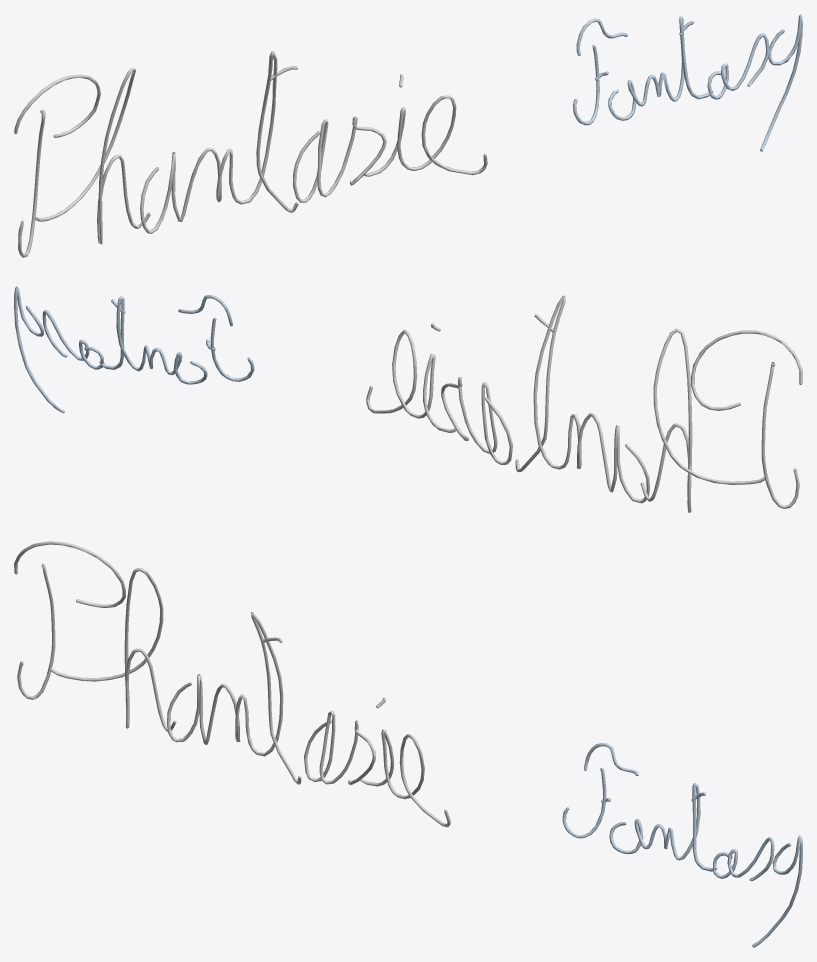
File: phantasie.glb
3 renders of one model, top to bottom at view 1: azimuth 30°, elevation 25°; view 2: azimuth 150°, elevation 25°; view 3: azimuth 330°, elevation 25°, orthographic. The views are drawn at different scales.
Visible parts, largest first — view 1: Mesh_16.003; view 2: Mesh_16.003; view 3: Mesh_16.003.
Boxes of the visible parts, left/top/right/bottom form: Mesh_16.003: left=14, top=14, right=802, bottom=257; Mesh_16.003: left=14, top=286, right=802, bottom=512; Mesh_16.003: left=14, top=541, right=802, bottom=947.
Size of the model in its own units: 2.59 by 0.78 by 0.2219.
